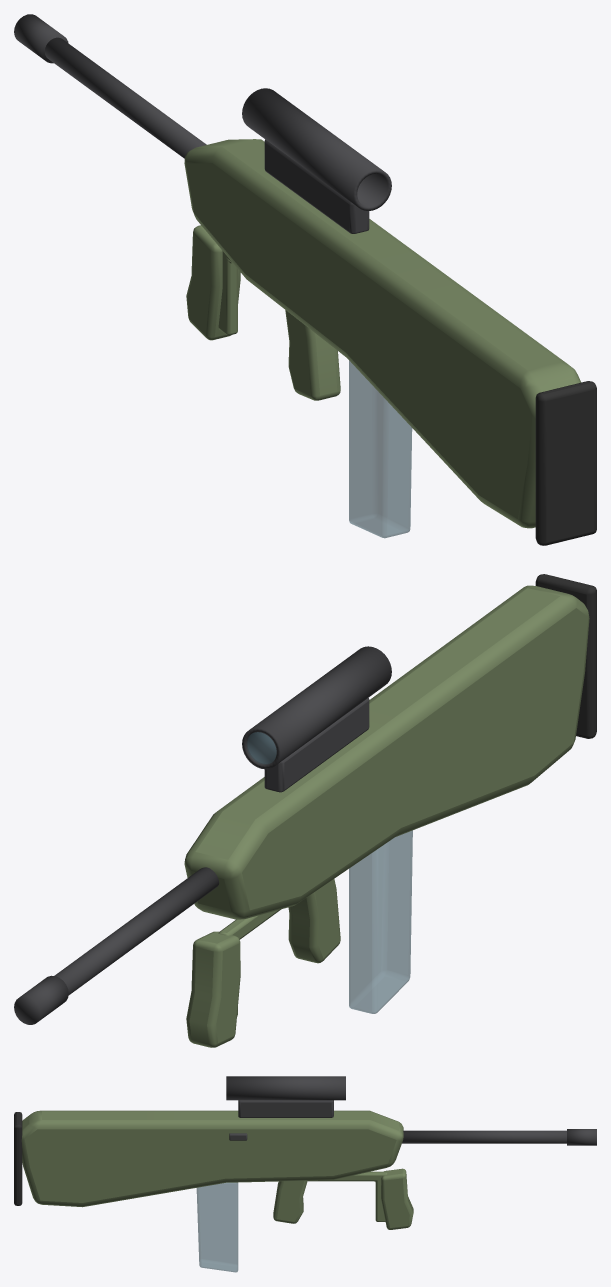
Rendered from w_aug.glb.
3 views of the same model, one above another, from view 1: azimuth 30°, elevation 25°; view 2: azimuth 150°, elevation 25°; view 3: azimuth 270°, elevation 25° (orthographic). The views are drawn at different scales.
Parts seen in each view (by area): view 1: body, mag; view 2: body, mag; view 3: body, mag.
Boxes of the visible parts, x1,y1,x2,y2 form: body: (14,14,596,545); mag: (349,360,412,538); body: (14,574,596,1047); mag: (349,830,412,1013); body: (14,1076,596,1229); mag: (196,1182,238,1272).
Size of the model in its own units: 0.0527 by 0.2871 by 0.79.
